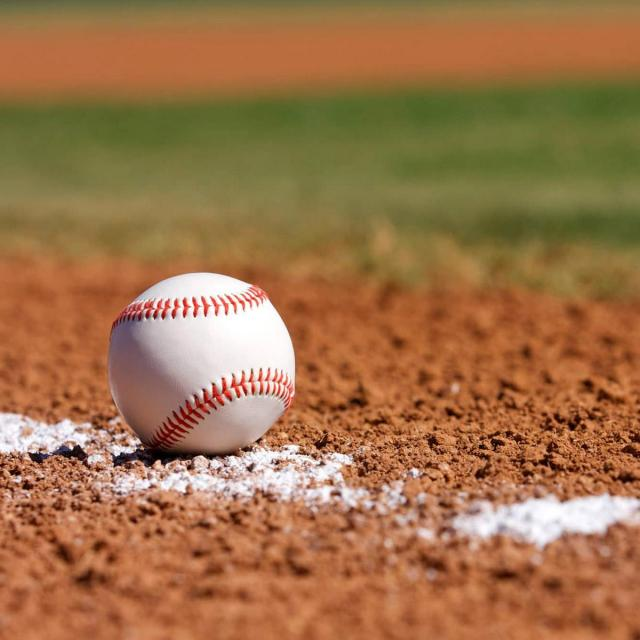baseball: (105, 272, 296, 455)
